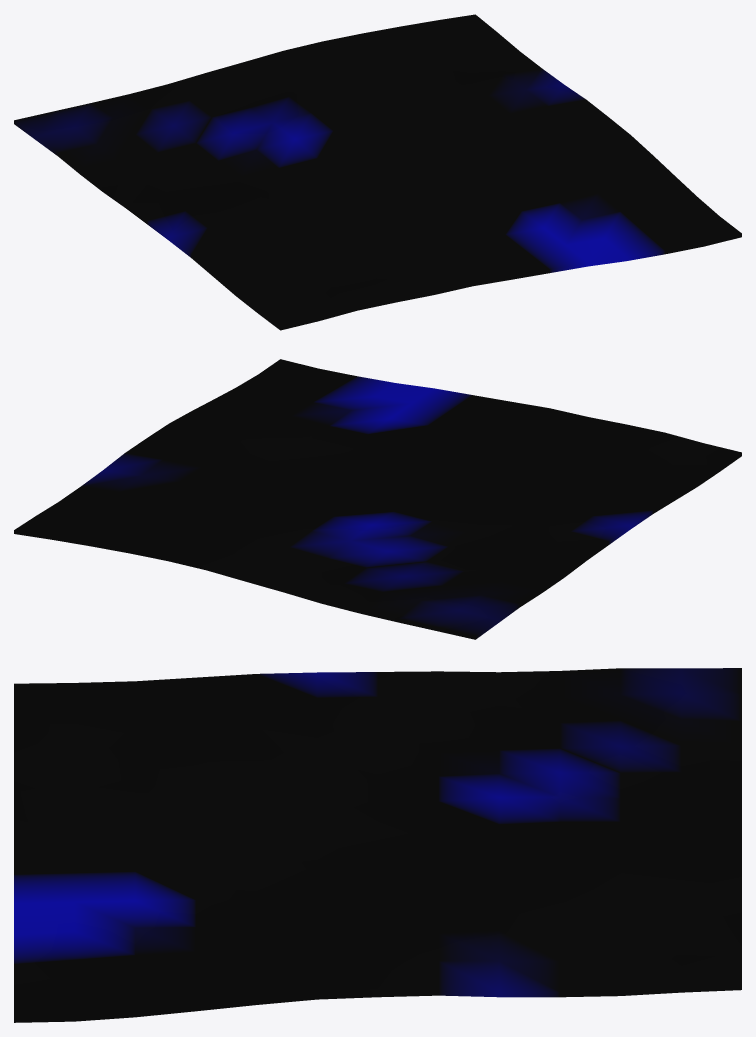
File: coast_5_6.glb
3 renders of one model, top to bottom at view 1: azimuth 30°, elevation 25°; view 2: azimuth 150°, elevation 25°; view 3: azimuth 270°, elevation 25°, orthographic. The views are drawn at different scales.
Visible parts, largest first — view 1: terrain; view 2: terrain; view 3: terrain.
Part boxes in pixels (left/top/right/bottom): terrain: left=14, top=14, right=741, bottom=330; terrain: left=14, top=359, right=741, bottom=639; terrain: left=14, top=668, right=741, bottom=1022.
Size of the model in its own units: 192 by 15.28 by 192.
